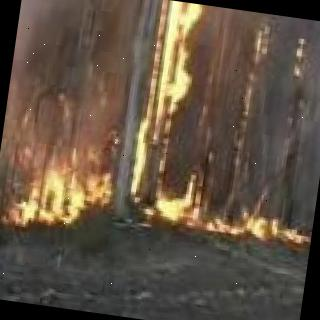fire: (2, 143, 318, 260), (140, 0, 200, 172), (232, 11, 280, 144)
